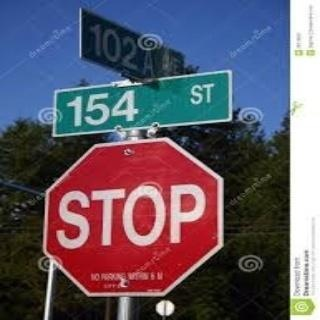sign_stop: (43, 139, 223, 295)
